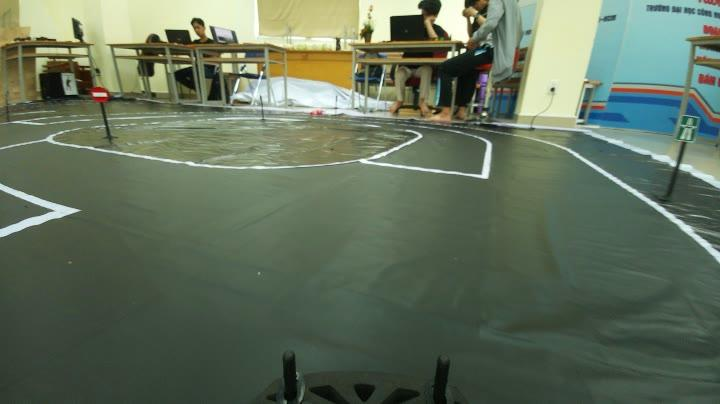highway_entry: (676, 113, 699, 144)
no_entry: (86, 87, 109, 102)
